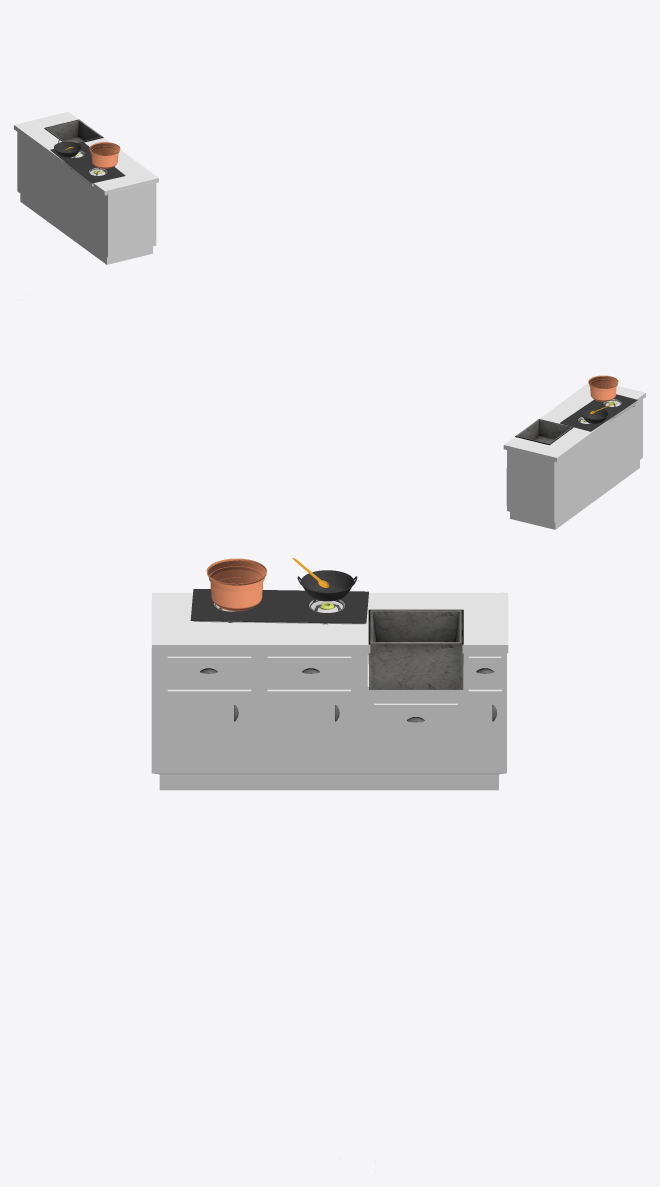
Rendered from set.glb.
3 renders of one model, top to bottom at view 1: azimuth 30°, elevation 25°; view 2: azimuth 150°, elevation 25°; view 3: azimuth 270°, elevation 25°, orthographic. The views are drawn at different scales.
Parts seen in each view (by area): view 1: Kitchen, Cube.003, Cylinder; view 2: Kitchen, Cube.003, Cylinder; view 3: Kitchen, Cube.003, Cylinder, Circle.
Part boxes in pixels (x1,y1,x2,y2): Kitchen: [14, 111, 158, 264]; Cube.003: [50, 142, 125, 187]; Cylinder: [89, 142, 120, 168]; Kitchen: [503, 383, 645, 529]; Cube.003: [560, 394, 637, 431]; Cylinder: [588, 375, 618, 401]; Kitchen: [151, 592, 508, 790]; Cube.003: [190, 589, 368, 624]; Cylinder: [206, 558, 266, 611]; Circle: [297, 570, 357, 601].
Size of the model in its own units: 39.19 by 6.17 by 10.39.
Materials: 30 (14 with a texture image).
